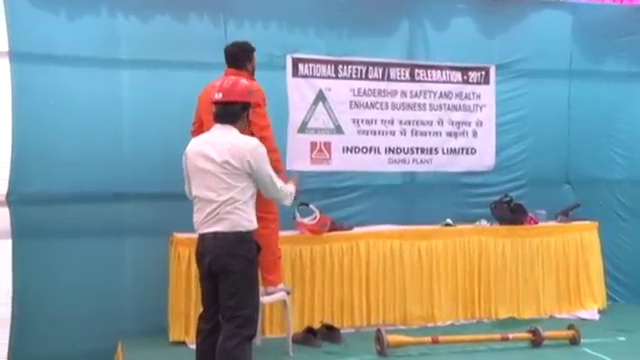helmet: (209, 74, 255, 105)
helmet_off: (223, 39, 259, 80)
helmet_on: (207, 73, 256, 133)
person: (179, 72, 291, 360), (199, 39, 293, 296)
